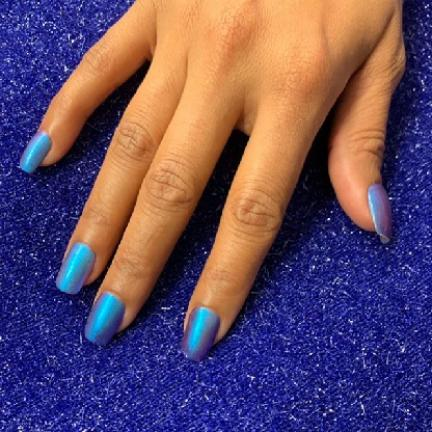Nail: (84, 292, 125, 345), (182, 307, 220, 361), (56, 242, 95, 294), (368, 183, 392, 243), (20, 131, 51, 173)
